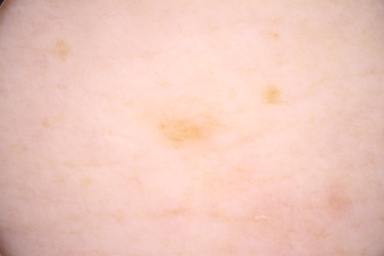melanoma: (158, 117, 205, 144)
